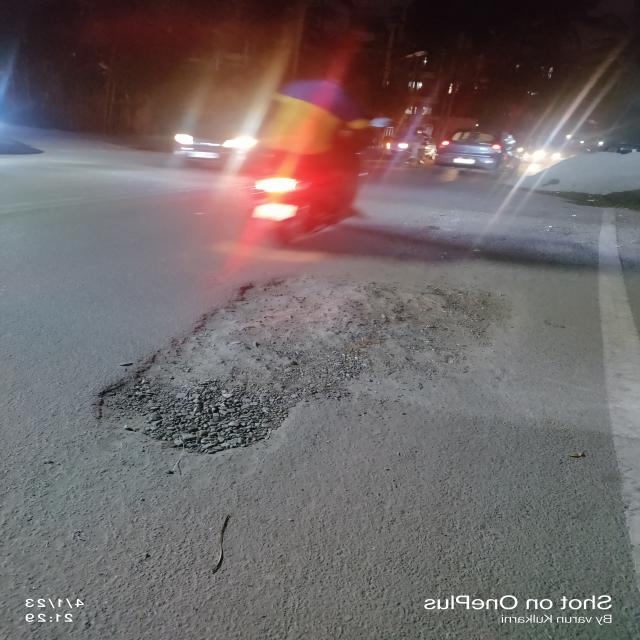potholes: (81, 274, 552, 465)
